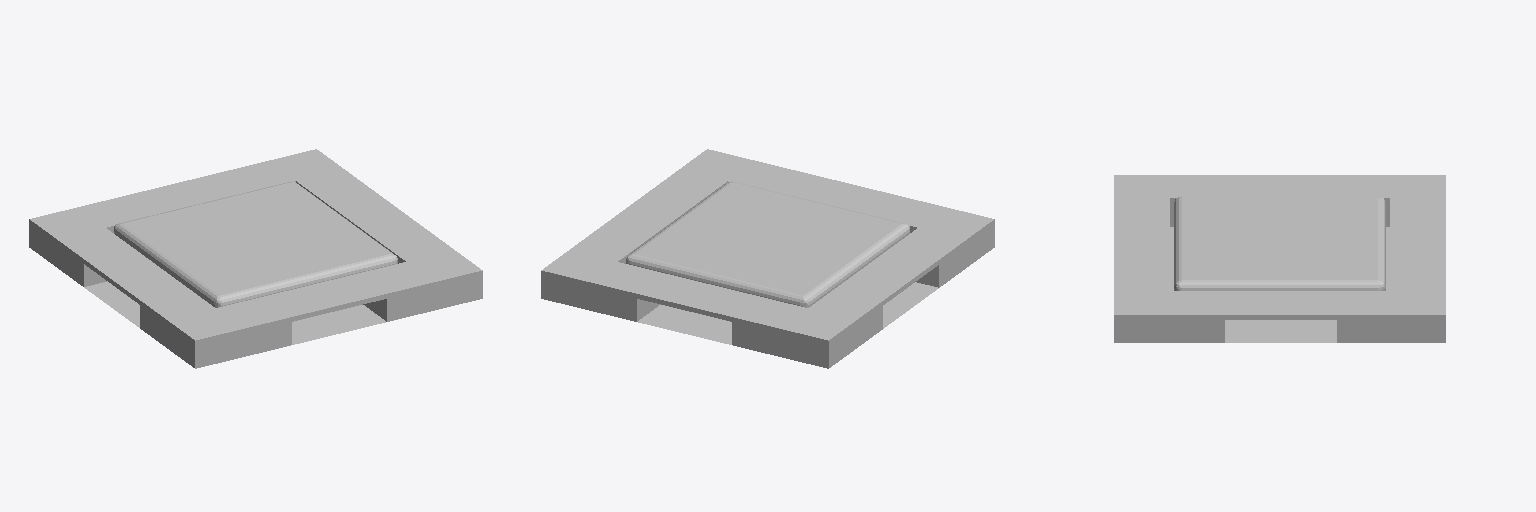
Rendered from square_light.obj.
3 views of the same model, side by side, from view 1: azimuth 30°, elevation 25°; view 2: azimuth 150°, elevation 25°; view 3: azimuth 270°, elevation 25° (orthographic).
Visible parts, largest first — view 1: Outside_Plane, Inside_Plane.001; view 2: Outside_Plane, Inside_Plane.001; view 3: Outside_Plane, Inside_Plane.001.
Boxes of the visible parts, box(x1,y1,x2,y2) form: Outside_Plane: box(29, 149, 482, 368); Inside_Plane.001: box(114, 181, 397, 307); Outside_Plane: box(541, 149, 994, 368); Inside_Plane.001: box(626, 181, 909, 307); Outside_Plane: box(1114, 175, 1445, 342); Inside_Plane.001: box(1174, 197, 1385, 290).
Bounding box in the file's own units: 6.03 × 0.6859 × 6.03.